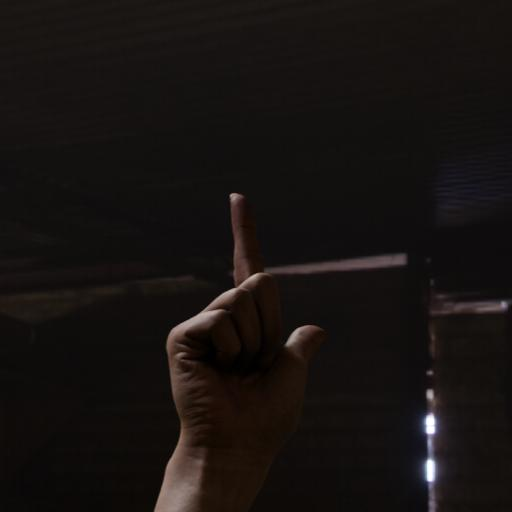L: (145, 166, 330, 482)
